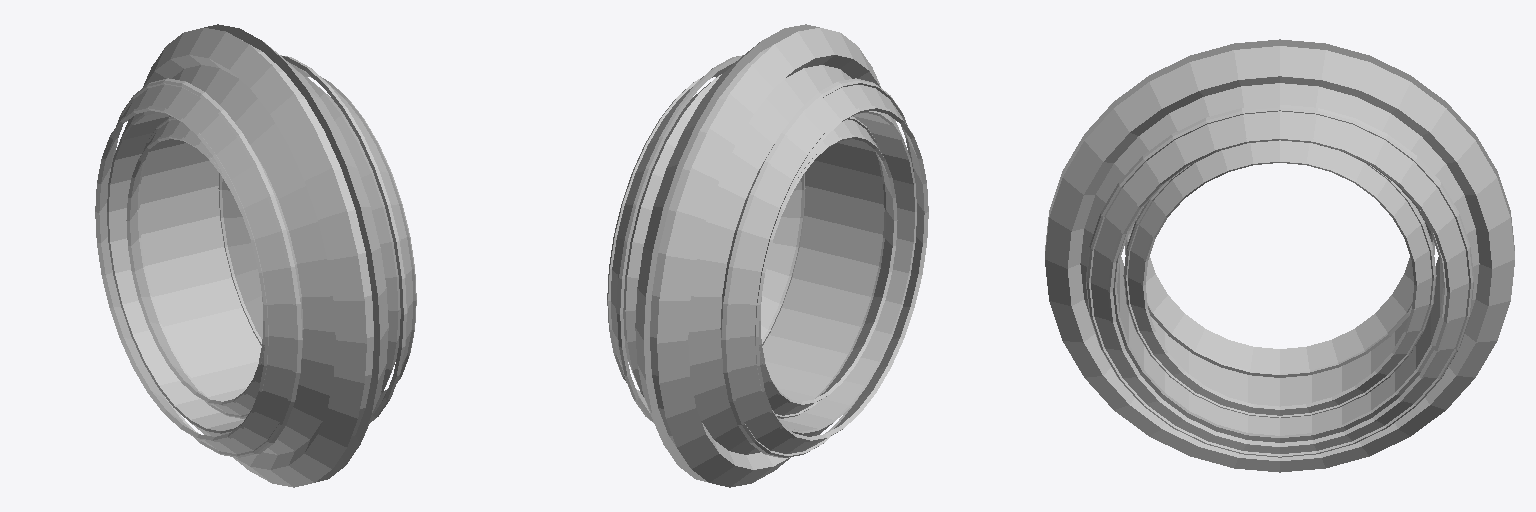
The model's file is ring_A.obj.
3 renders of one model, left to right at view 1: azimuth 30°, elevation 25°; view 2: azimuth 150°, elevation 25°; view 3: azimuth 270°, elevation 25°, orthographic.
Bounding box in the file's own units: 1.08 × 2.9 × 2.9.